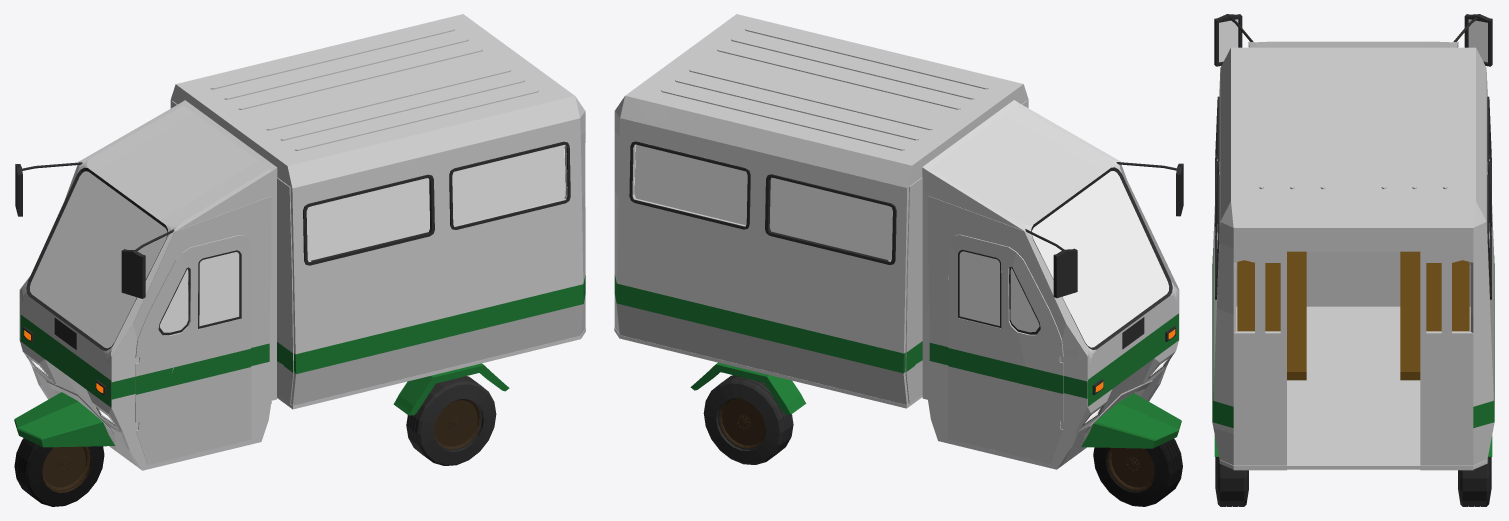
Rendered from three_wheel.glb.
3 renders of one model, left to right at view 1: azimuth 30°, elevation 25°; view 2: azimuth 150°, elevation 25°; view 3: azimuth 270°, elevation 25°, orthographic. The views are drawn at different scales.
Visible parts, largest first — view 1: Side; view 2: Side; view 3: Side.
Part boxes in pixels (left/top/right/bottom): Side: left=14, top=14, right=585, bottom=506; Side: left=614, top=14, right=1183, bottom=506; Side: left=1212, top=14, right=1494, bottom=506.
Bounding box in the file's own units: 3.07 × 1.92 × 1.34.
